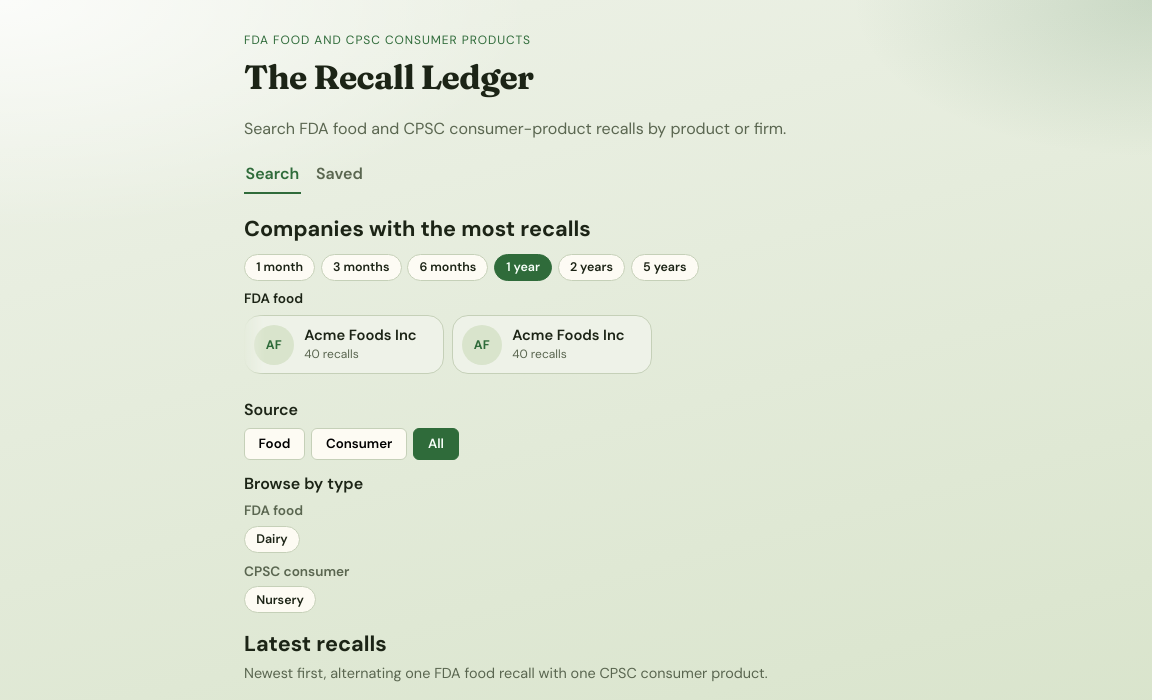
Scenario: App › a Dairy chip sends category=dairy, titles the list, and Clear search restores Latest
Expected: the button "Nursery" is shown, [244,586,316,613]
Expected: the text "Browse by type" is shown, [244,473,363,494]
Click the button "Dairy". click: {"x": 272, "y": 539}
box: [244,526,300,553]
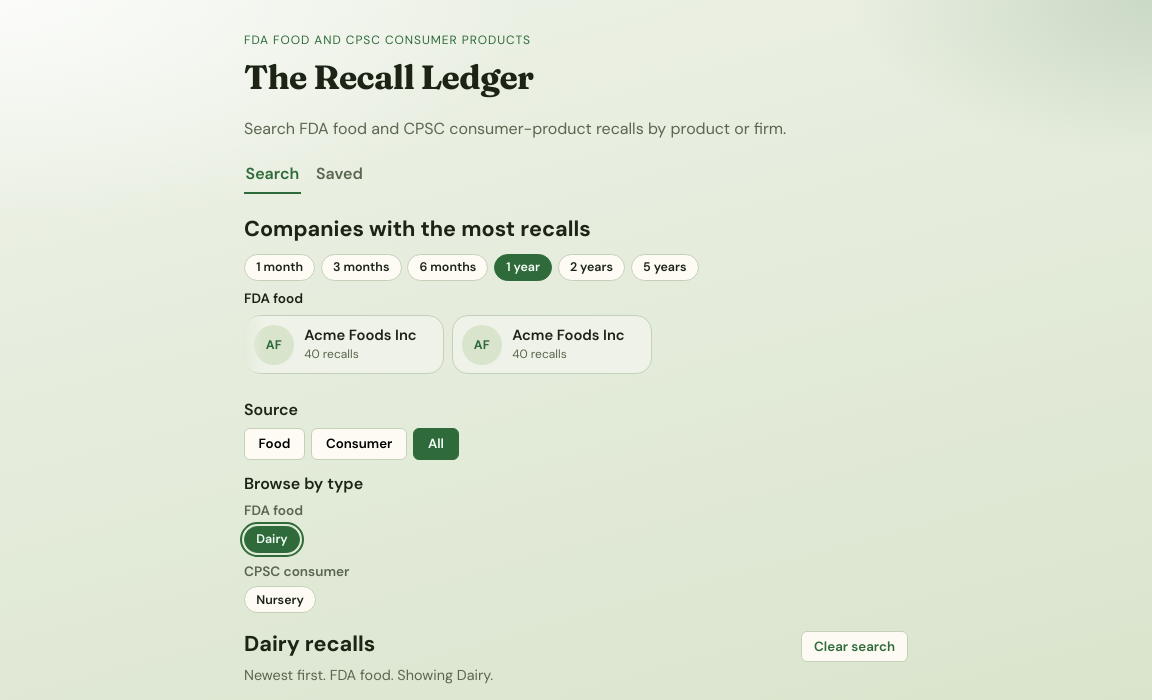
Expected: the heading "Dairy recalls" is shown, [244,629,375,660]
Expected: the button "Clear search" is shown
Expected: the text "Newest first. FDA food. Showing Dairy." is shown, [244,666,493,684]
Click the button "Clear search". click: {"x": 855, "y": 646}
box: [801,631,908,662]
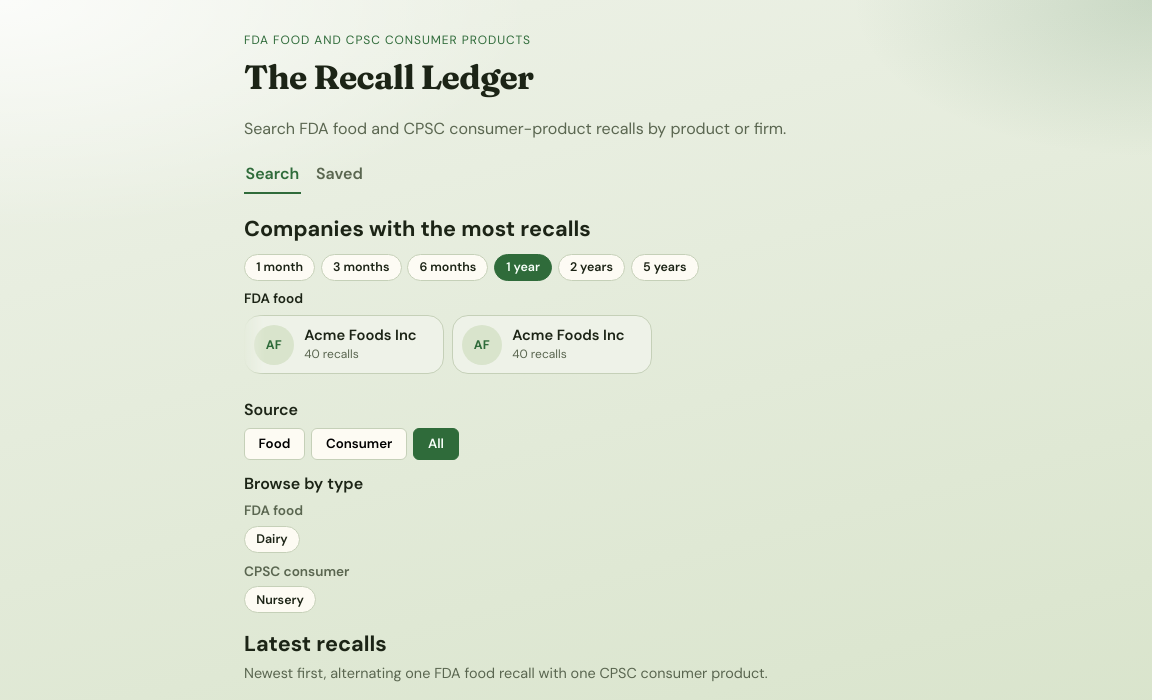
Expected: the heading "Latest recalls" is shown, [244,629,387,660]
Expected: the button "Clear search" is gone
